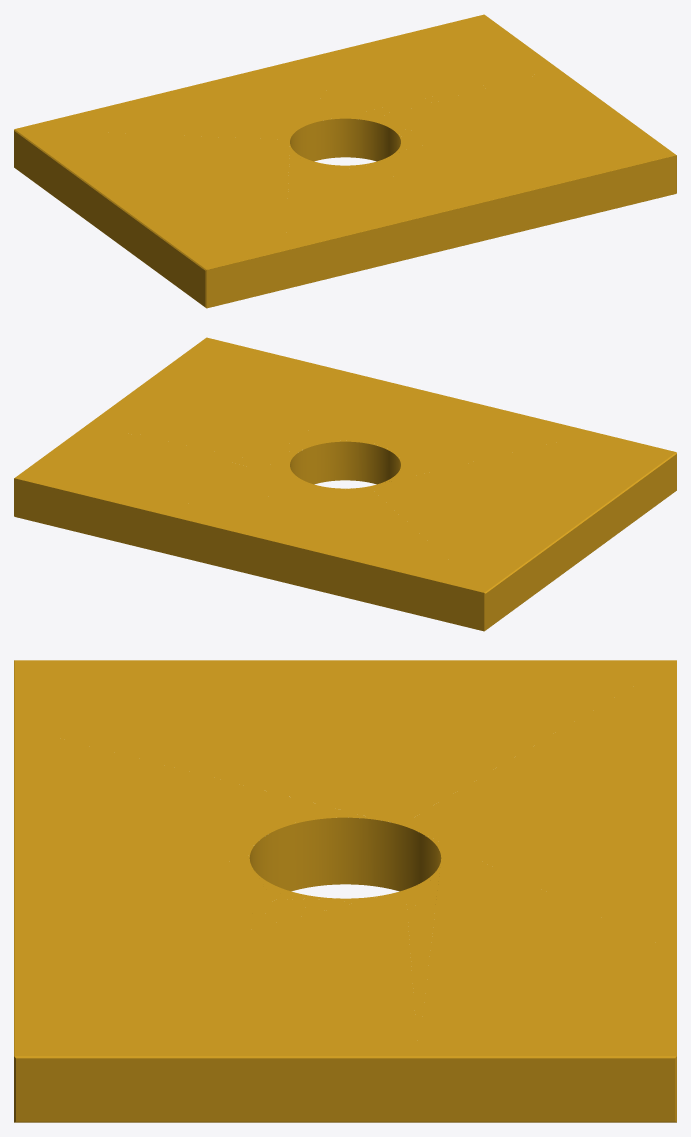
The model's file is asinma-cat-cat-130-02.glb.
3 views of the same model, one above another, from view 1: azimuth 30°, elevation 25°; view 2: azimuth 150°, elevation 25°; view 3: azimuth 270°, elevation 25° (orthographic). The views are drawn at different scales.
Visible parts, largest first — view 1: body; view 2: body; view 3: body.
Part boxes in pixels (left/top/right/bottom): body: left=14, top=14, right=676, bottom=308; body: left=14, top=337, right=676, bottom=631; body: left=14, top=660, right=676, bottom=1122.
Bounding box in the file's own units: 0.255 × 0.02 × 0.18.
